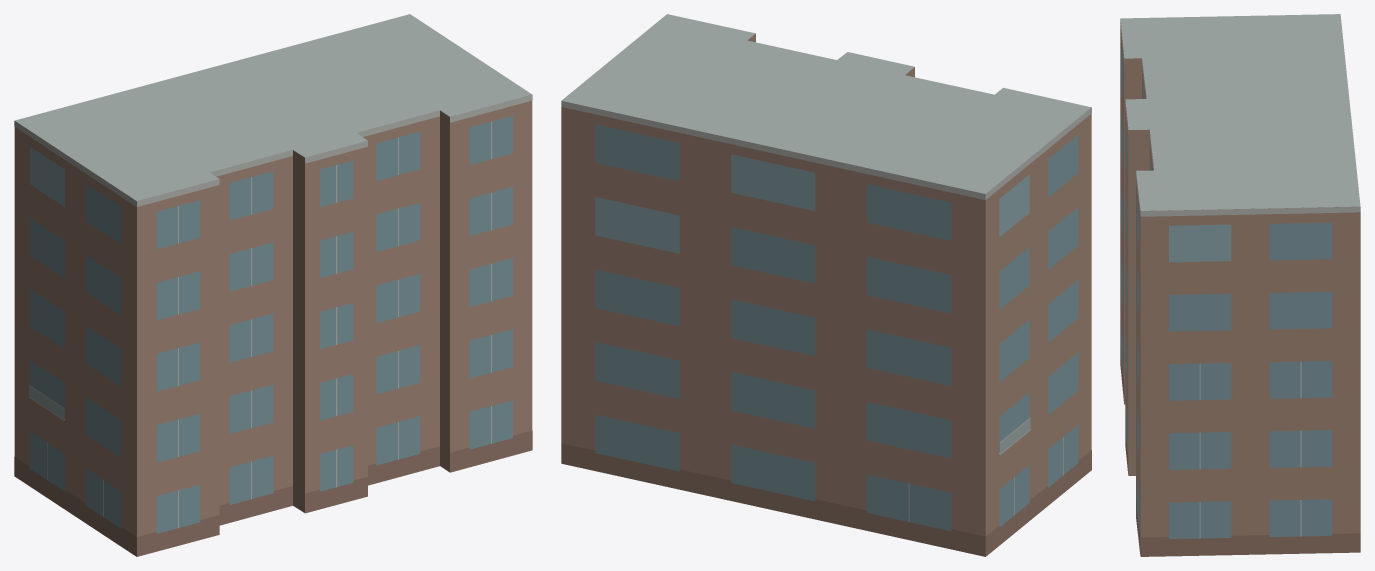
File: survey-upis-32597171.glb
The picture shows the model from 3 angles, left to right: view 1: azimuth 30°, elevation 25°; view 2: azimuth 150°, elevation 25°; view 3: azimuth 270°, elevation 25°; orthographic projection. The views are drawn at different scales.
Visible parts, largest first — view 1: survey-upis-32597171.tmp; view 2: survey-upis-32597171.tmp; view 3: survey-upis-32597171.tmp.
Boxes of the visible parts, bbox=[...] form: survey-upis-32597171.tmp: bbox=[14, 14, 532, 556]; survey-upis-32597171.tmp: bbox=[561, 14, 1091, 556]; survey-upis-32597171.tmp: bbox=[1120, 14, 1360, 556].
Size of the model in its own units: 17.84 by 14.6 by 9.2.
